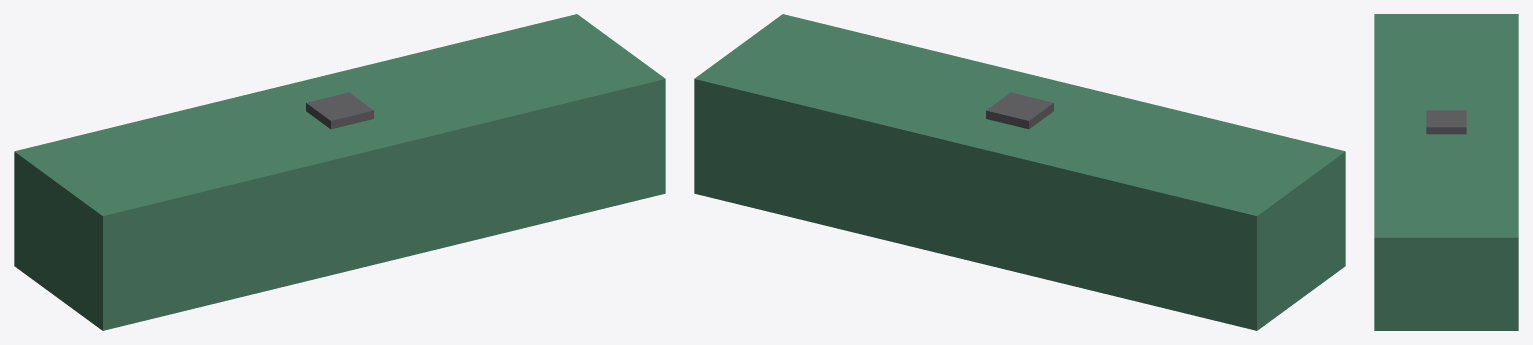
The model's file is holder-18650.glb.
The picture shows the model from 3 angles, left to right: view 1: azimuth 30°, elevation 25°; view 2: azimuth 150°, elevation 25°; view 3: azimuth 270°, elevation 25°; orthographic projection. The views are drawn at different scales.
Parts seen in each view (by area): view 1: holder-18650-pcb, holder-18650-ic; view 2: holder-18650-pcb, holder-18650-ic; view 3: holder-18650-pcb, holder-18650-ic.
Part boxes in pixels (x1,y1,x2,y2): holder-18650-pcb: (14, 14, 665, 330); holder-18650-ic: (306, 92, 373, 129); holder-18650-pcb: (694, 14, 1345, 330); holder-18650-ic: (986, 92, 1053, 129); holder-18650-pcb: (1374, 14, 1518, 330); holder-18650-ic: (1426, 110, 1466, 134).
Bounding box in the file's own units: 0.077 × 0.0161 × 0.021.
